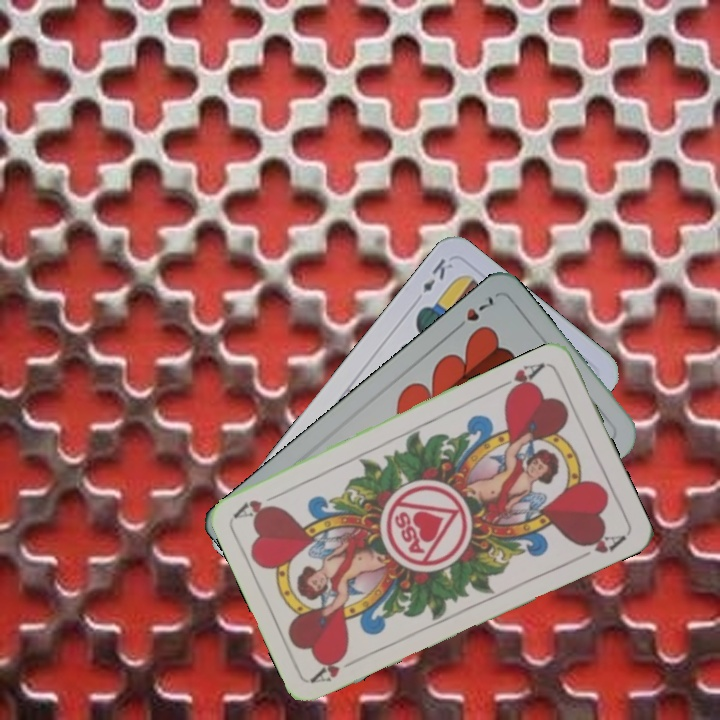EK: (418, 254, 456, 296)
H7: (449, 292, 499, 334)
HA: (308, 647, 365, 686), (494, 358, 548, 399)
